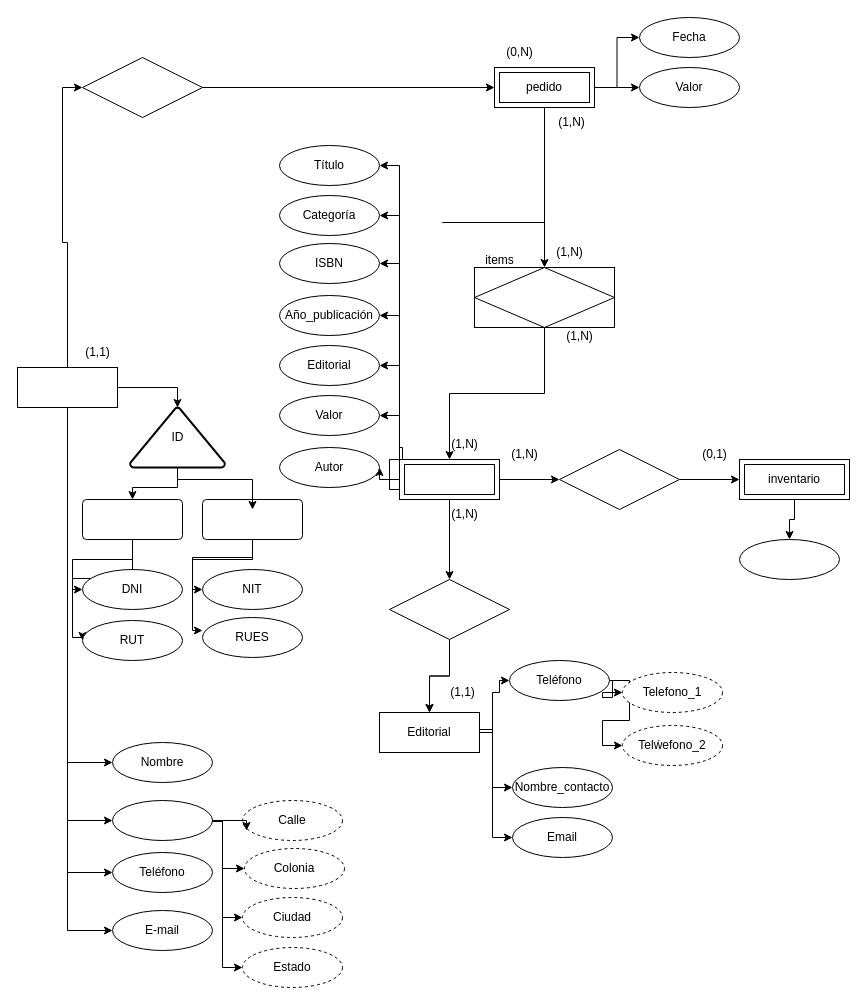
Some shapes in this 867 by 1005 pixel diagram are drawn without their labels. The centre of each missing label's shape, as x and y in pixels:
"Cantidad" belongs at point (789, 559).
"Cliente" belongs at point (67, 387).
"contiene" belongs at point (544, 297).
"Dirección" belongs at point (162, 820).
"existe" belongs at point (619, 479).
"Libro" belongs at point (449, 479).
"PersonaJurídica" belongs at point (252, 519).
"PersonaNatural" belongs at point (132, 519).
"pertenece" belongs at point (449, 609).
"Realiza" belongs at point (142, 87).
